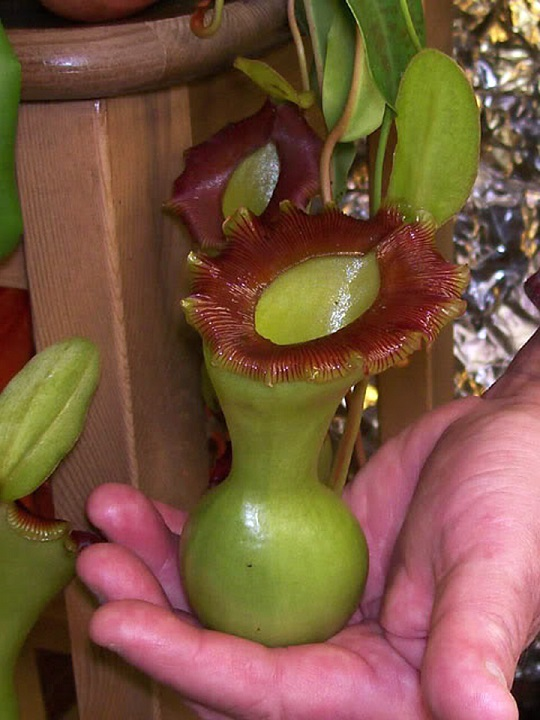ventricosa: (138, 36, 499, 665)
